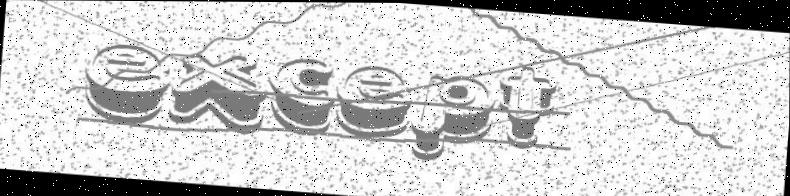c: (261, 48, 337, 137)
e: (78, 30, 173, 127), (332, 58, 416, 142)
p: (405, 65, 496, 167)
t: (493, 60, 561, 149)
x: (168, 39, 271, 137)
